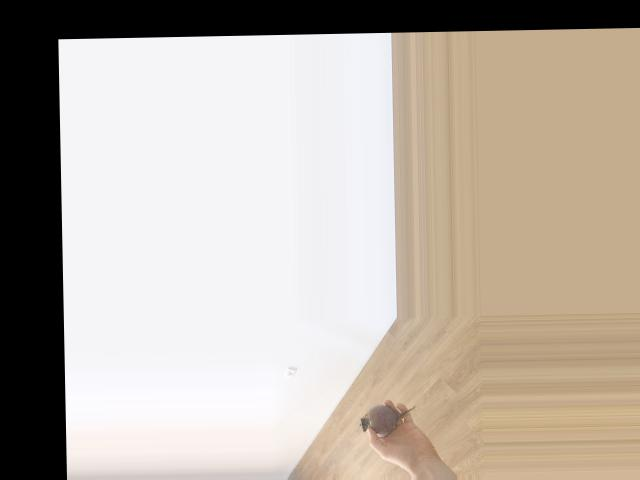beet: (360, 403, 415, 436)
